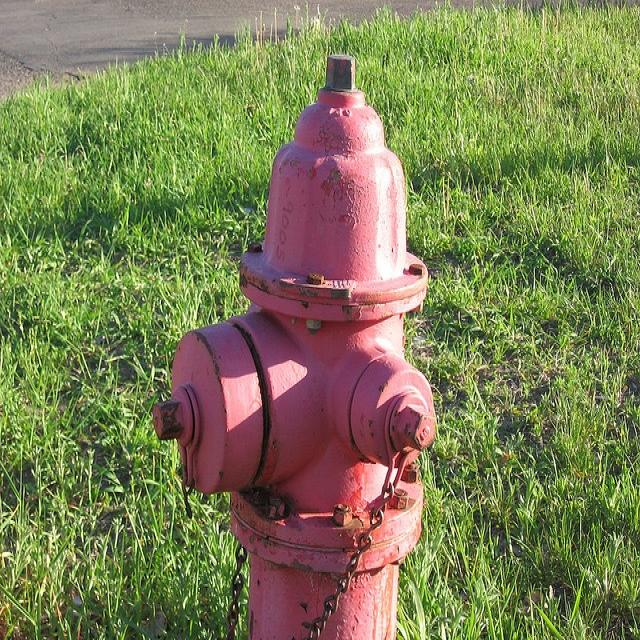fire_hydrant: (151, 52, 434, 639)
